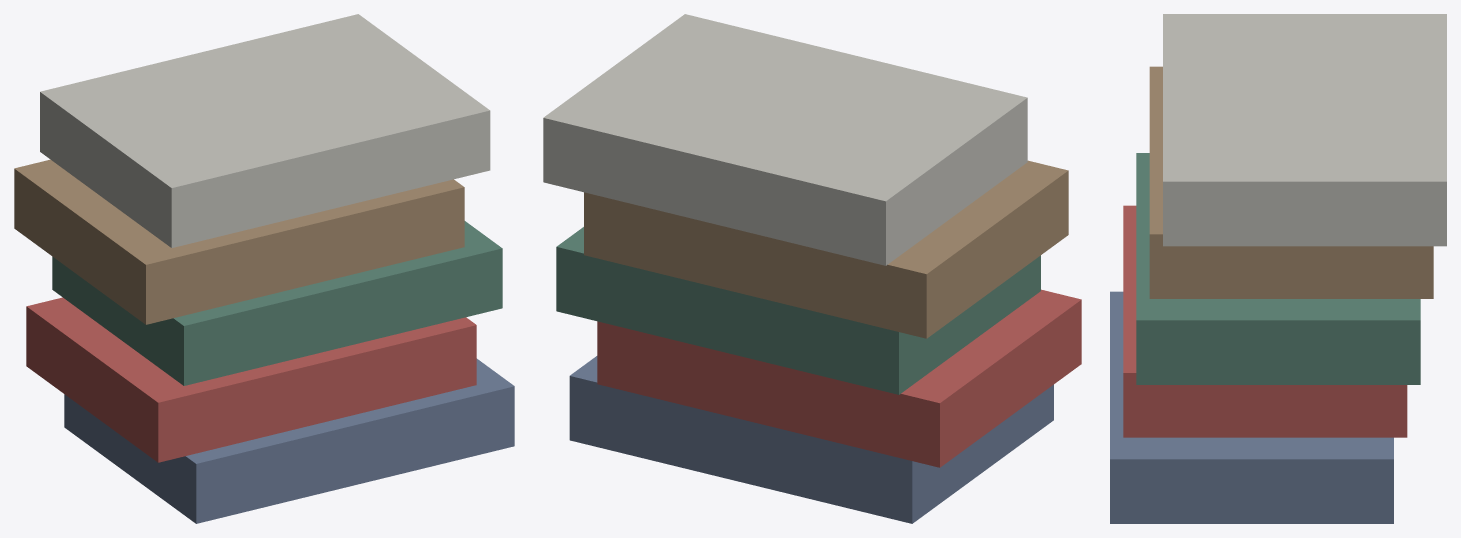
File: CLS-015.glb
3 renders of one model, left to right at view 1: azimuth 30°, elevation 25°; view 2: azimuth 150°, elevation 25°; view 3: azimuth 270°, elevation 25°, orthographic. The views are drawn at different scales.
Parts seen in each view (by area): view 1: 008_Book_hard_cover_4, 002_Book_hard_cover_1, 006_Book_hard_cover_3, 000_Book_hard_cover_0, 004_Book_hard_cover_2; view 2: 008_Book_hard_cover_4, 002_Book_hard_cover_1, 006_Book_hard_cover_3, 000_Book_hard_cover_0, 004_Book_hard_cover_2; view 3: 008_Book_hard_cover_4, 000_Book_hard_cover_0, 004_Book_hard_cover_2, 002_Book_hard_cover_1, 006_Book_hard_cover_3.
Boxes of the visible parts, x1,y1,x2,y2 form: 008_Book_hard_cover_4: (40, 14, 490, 247); 002_Book_hard_cover_1: (26, 297, 476, 462); 006_Book_hard_cover_3: (14, 159, 464, 324); 000_Book_hard_cover_0: (64, 358, 514, 523); 004_Book_hard_cover_2: (52, 221, 502, 385); 008_Book_hard_cover_4: (543, 14, 1027, 265); 002_Book_hard_cover_1: (597, 289, 1081, 467); 006_Book_hard_cover_3: (584, 160, 1068, 338); 000_Book_hard_cover_0: (569, 356, 1053, 523); 004_Book_hard_cover_2: (556, 227, 1040, 394); 008_Book_hard_cover_4: (1163, 14, 1446, 246); 000_Book_hard_cover_0: (1110, 291, 1393, 523); 004_Book_hard_cover_2: (1136, 153, 1420, 384); 002_Book_hard_cover_1: (1123, 205, 1407, 437); 006_Book_hard_cover_3: (1149, 66, 1433, 298).
Bounding box in the file's own units: 0.33 × 0.286 × 0.255.
